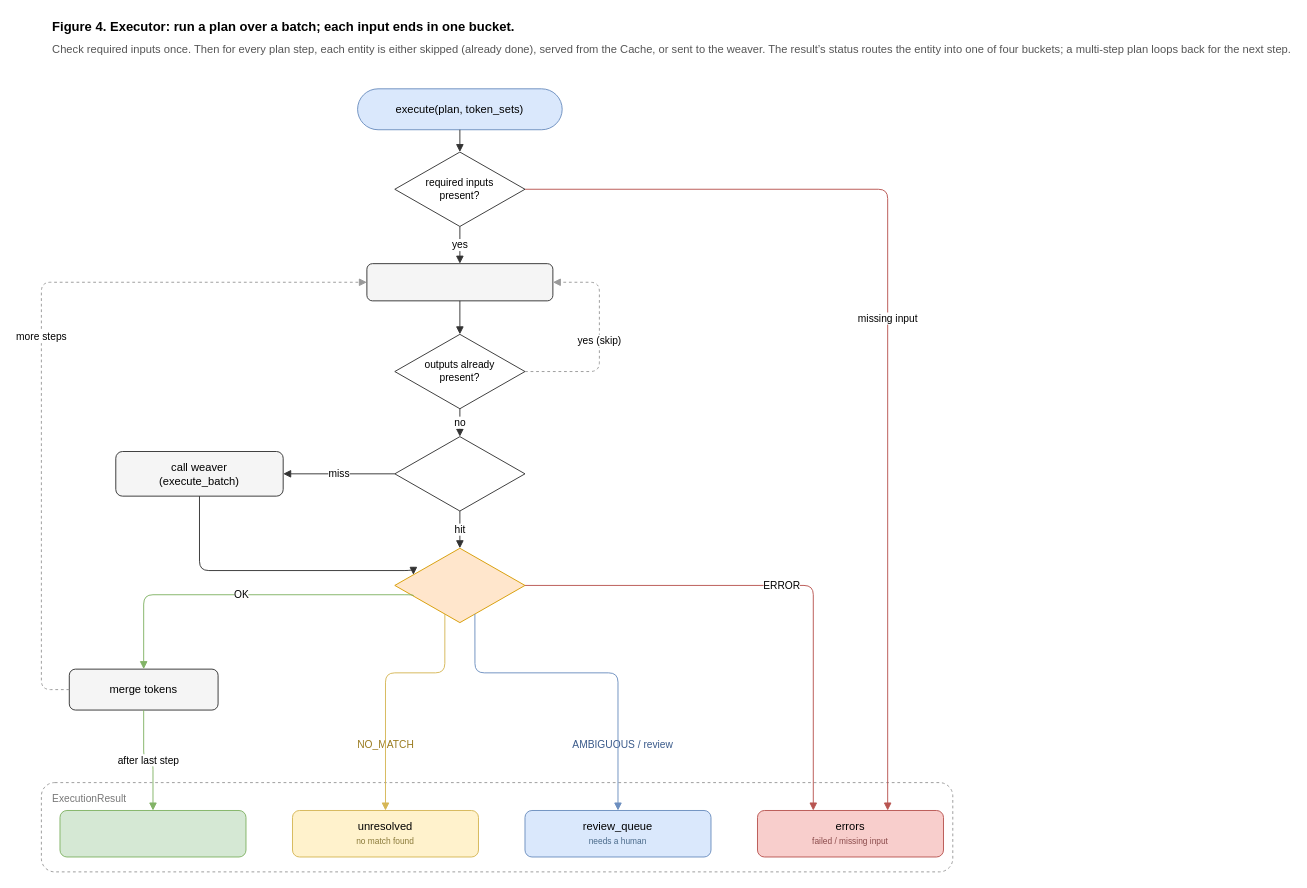
The diagram is 1307 pixels wide and 888 high, and some of its shapes have lost their labels. Here are the shapes that lost their labels. From the top down, the centre of each, then its label:
point (459, 282): for each plan step
point (459, 473): cache hit?
point (459, 585): result status?
point (152, 833): resolved goal met
